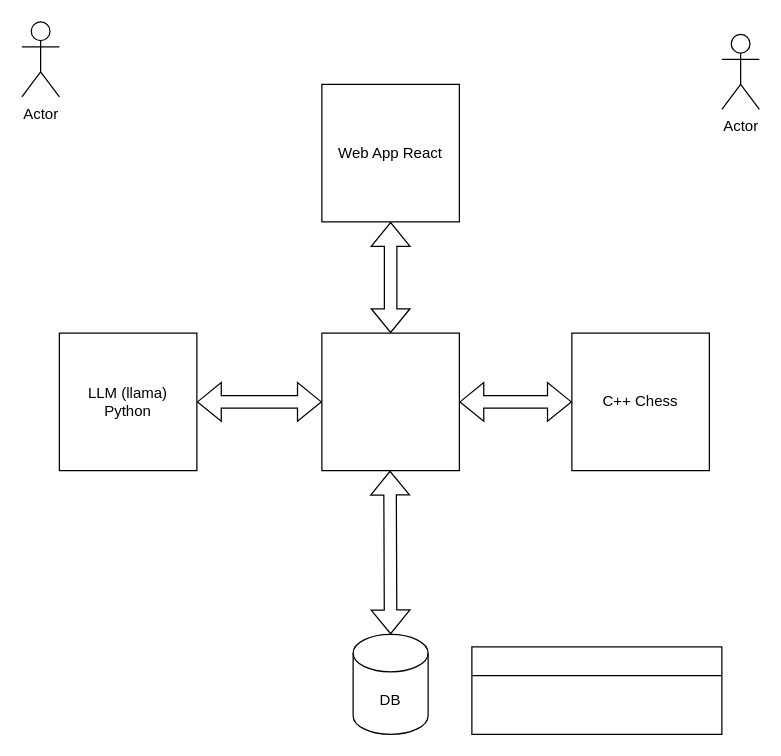
The diagram is 781 pixels wide and 756 high, and some of its shapes have lost their labels. Each missing label, with the centre of its shape:
"NetxJS Server" goes at point 390,401.
"Partie" goes at point 596,690.
